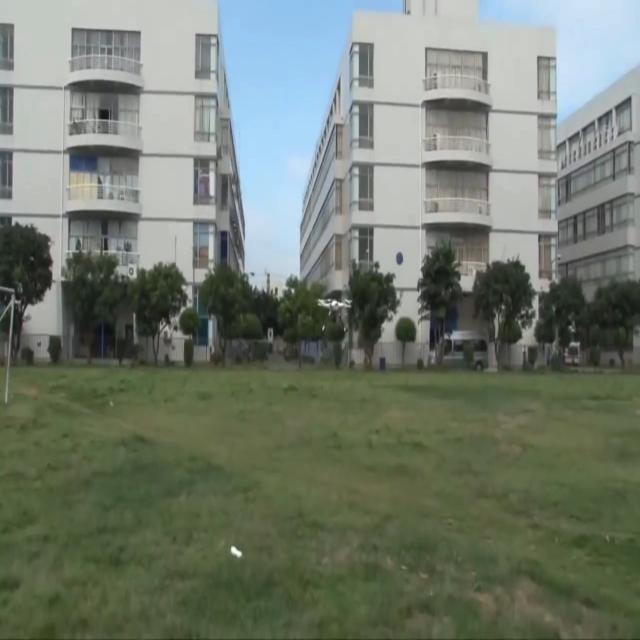drone: (314, 295, 353, 334)
